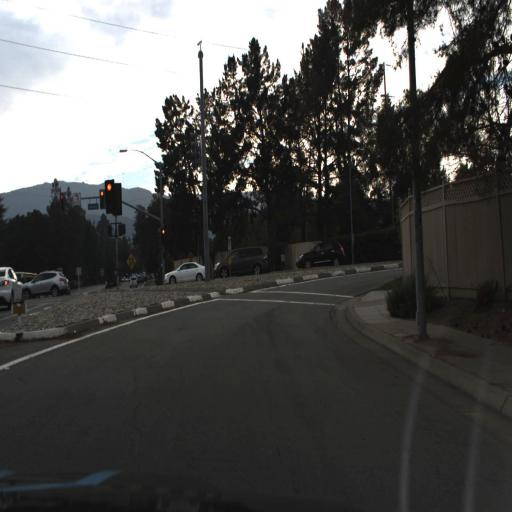car: (212, 246, 270, 278), (295, 233, 343, 270), (19, 268, 69, 300), (161, 259, 211, 285), (0, 265, 22, 311)
trafficLight: (58, 192, 66, 212)
trafficLight-Red: (106, 179, 112, 205), (160, 227, 166, 244)
